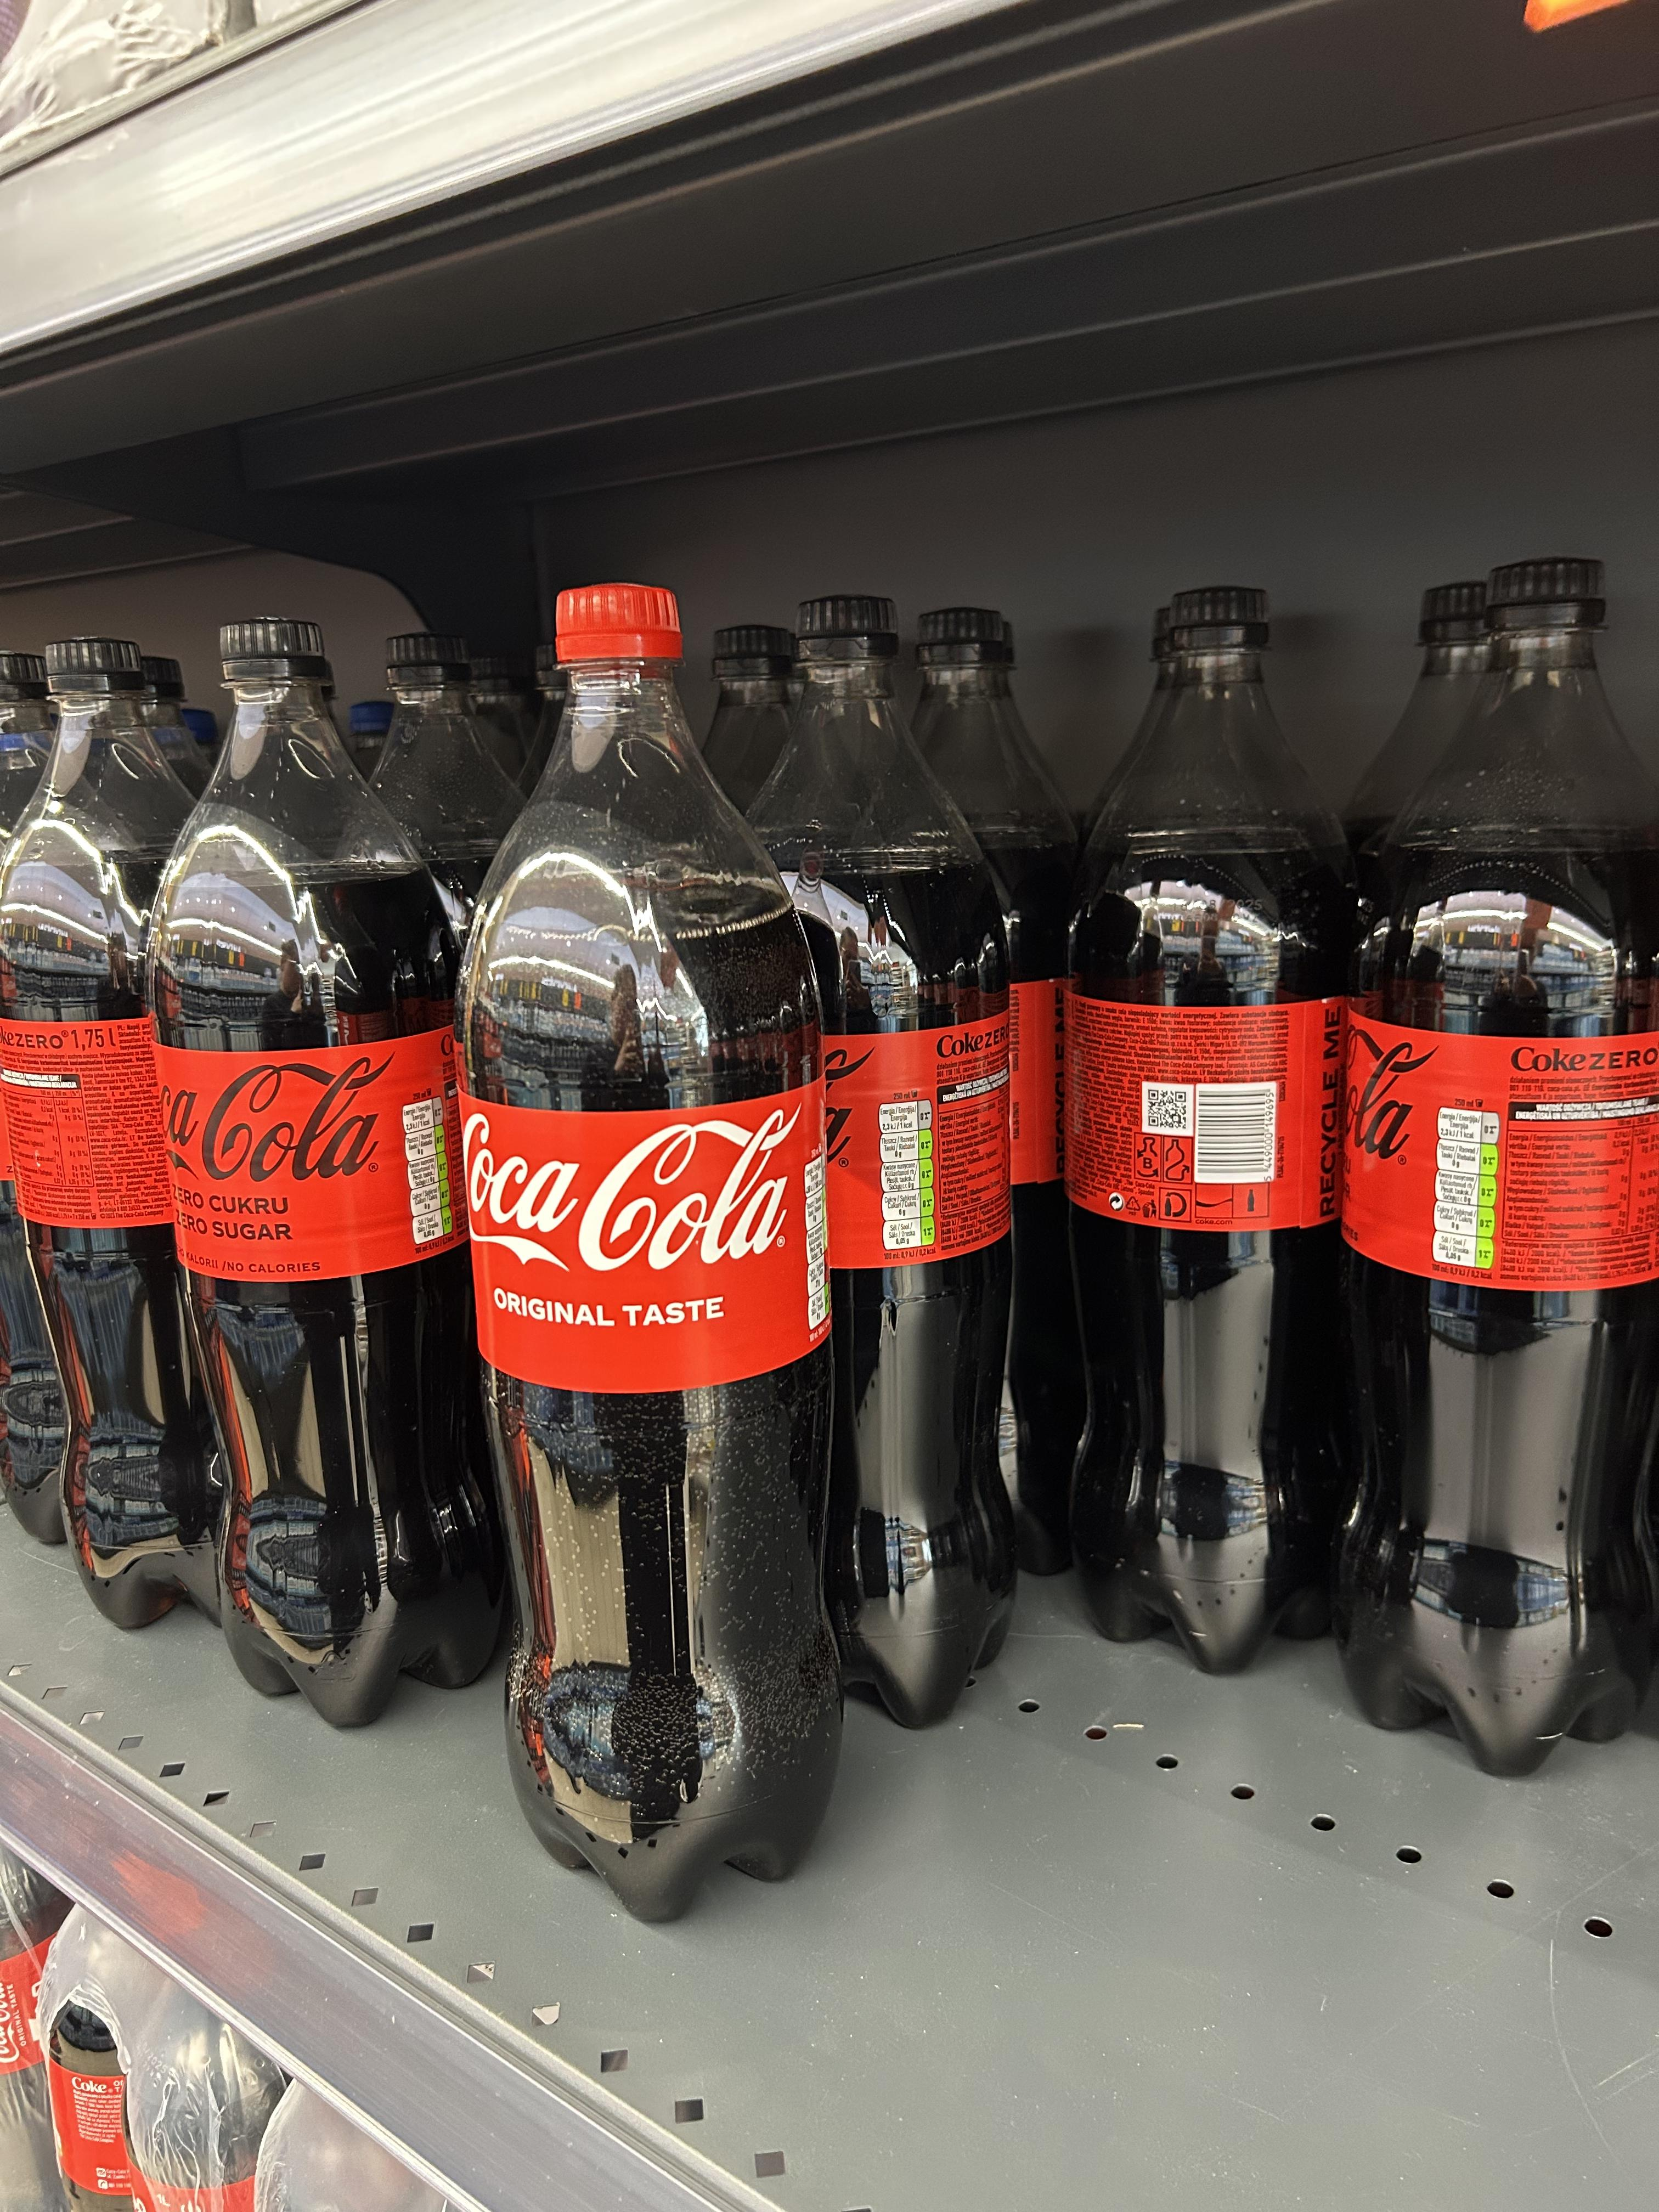Coca Cola: (464, 573, 849, 1937), (143, 617, 509, 1730), (1337, 552, 1656, 1768), (739, 589, 1037, 1735), (1066, 582, 1352, 1683), (7, 622, 240, 1656)
